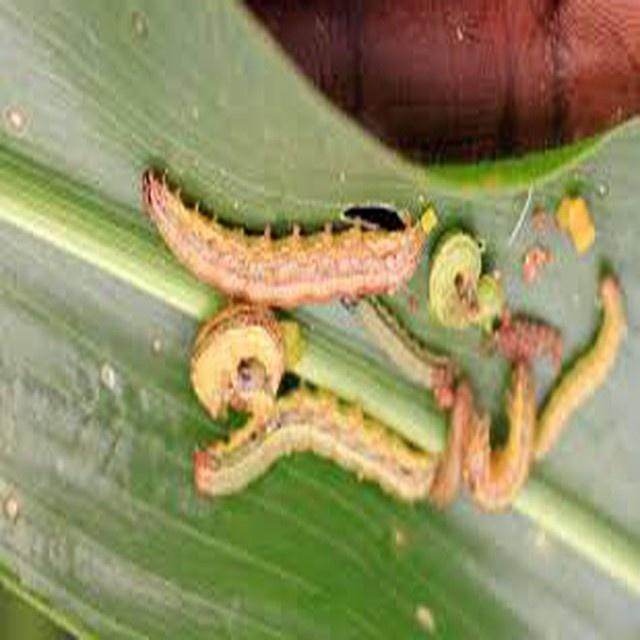Plaga: (145, 176, 433, 308), (193, 393, 431, 501), (533, 278, 635, 458), (193, 313, 288, 418), (358, 293, 450, 393), (470, 371, 538, 501), (426, 236, 508, 328), (435, 385, 475, 508)
